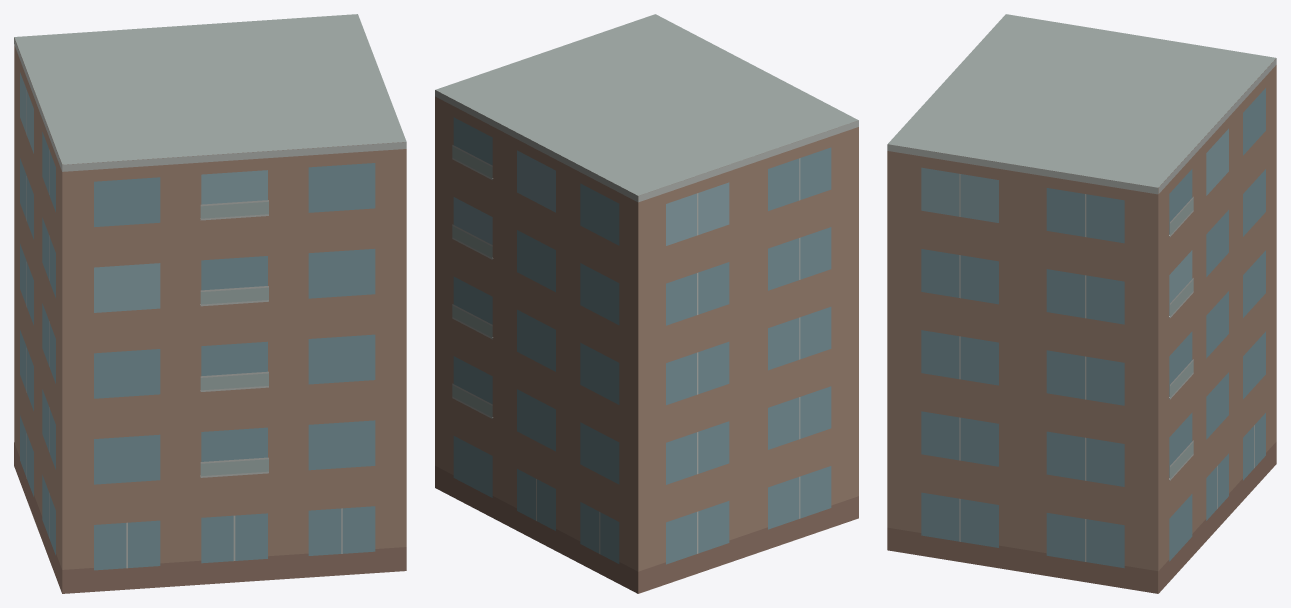
Rendered from survey-upis-32868935.glb.
3 renders of one model, left to right at view 1: azimuth 30°, elevation 25°; view 2: azimuth 150°, elevation 25°; view 3: azimuth 270°, elevation 25°, orthographic. The views are drawn at different scales.
Parts seen in each view (by area): view 1: survey-upis-32868935.tmp; view 2: survey-upis-32868935.tmp; view 3: survey-upis-32868935.tmp.
Boxes of the visible parts, box(x1,y1,x2,y2) form: survey-upis-32868935.tmp: box(14, 14, 406, 593); survey-upis-32868935.tmp: box(435, 14, 858, 593); survey-upis-32868935.tmp: box(887, 14, 1276, 593).
Size of the model in its own units: 13.54 by 14.75 by 12.82.
